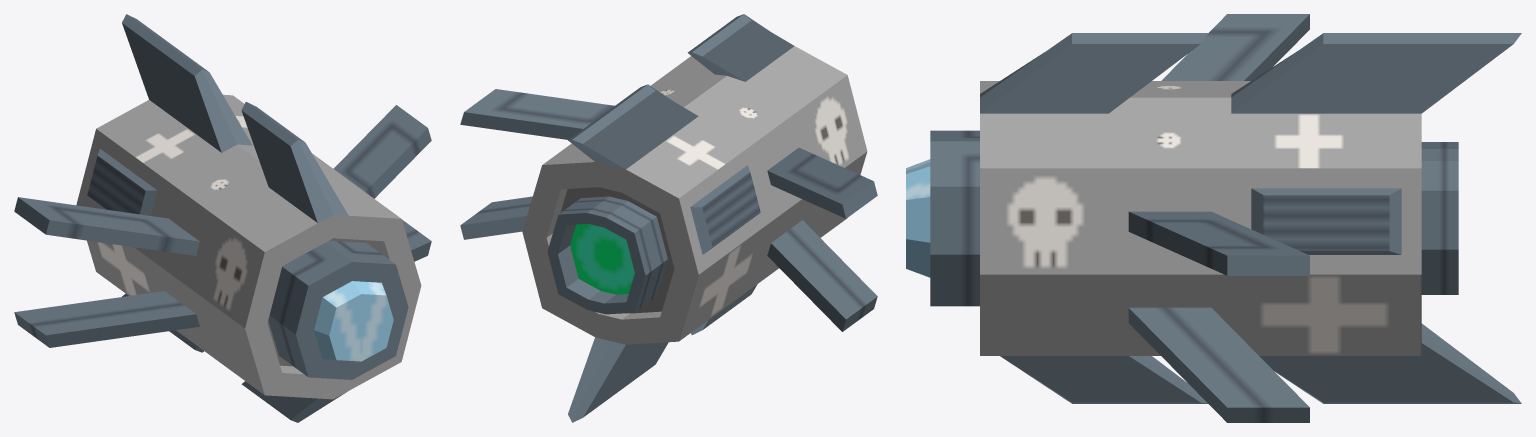
File: Ship10.fbx
3 views of the same model, side by side, from view 1: azimuth 30°, elevation 25°; view 2: azimuth 150°, elevation 25°; view 3: azimuth 270°, elevation 25° (orthographic). The views are drawn at different scales.
Visible parts, largest first — view 1: Ship10; view 2: Ship10; view 3: Ship10.
Boxes of the visible parts, box(x1,y1,x2,y2) form: Ship10: box(14, 14, 431, 422); Ship10: box(460, 14, 877, 422); Ship10: box(906, 14, 1521, 422).
Size of the model in its own units: 564 by 396 by 596.
Materials: 1 (1 with a texture image).
